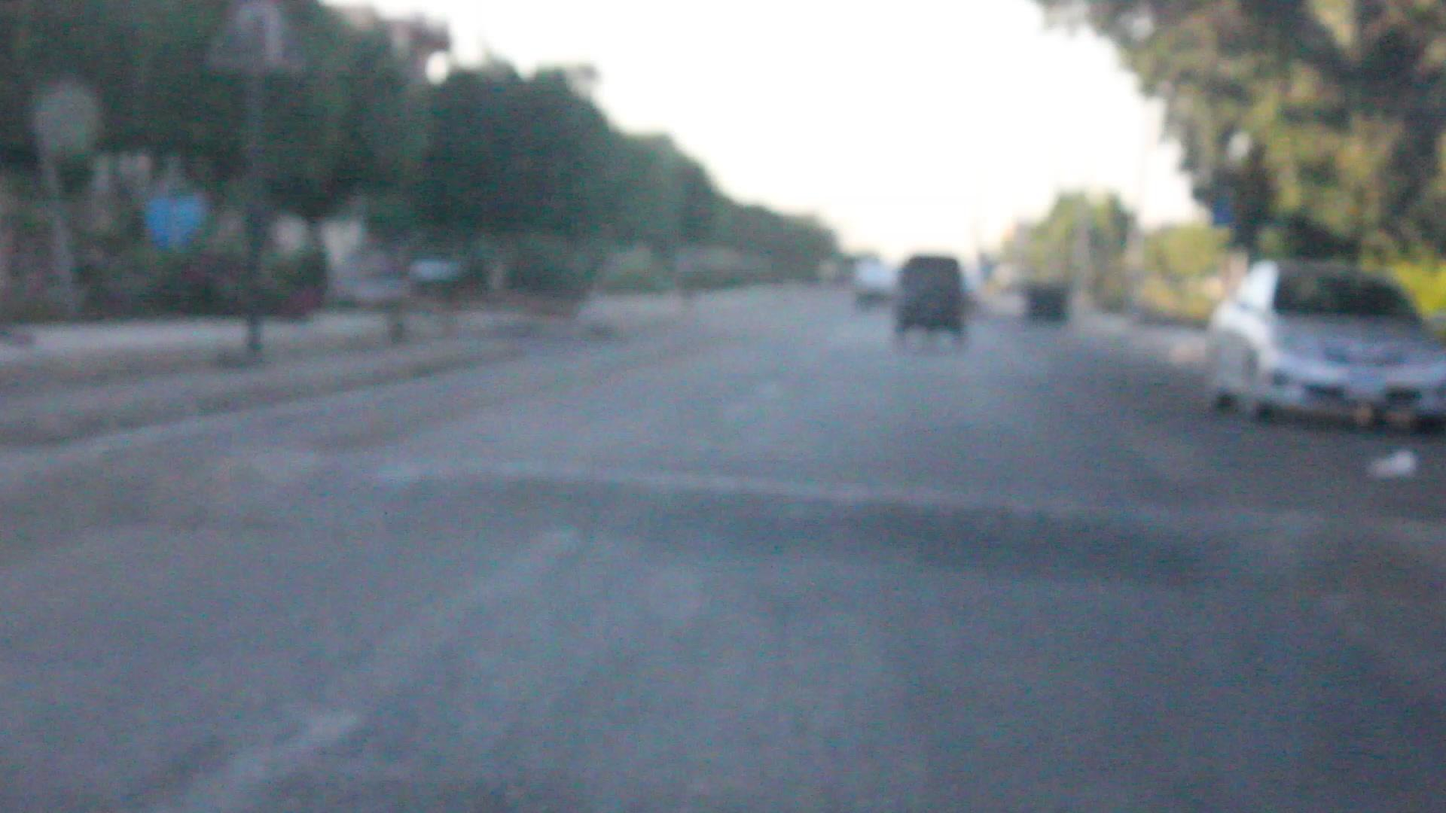Bump: (21, 431, 1445, 594)
